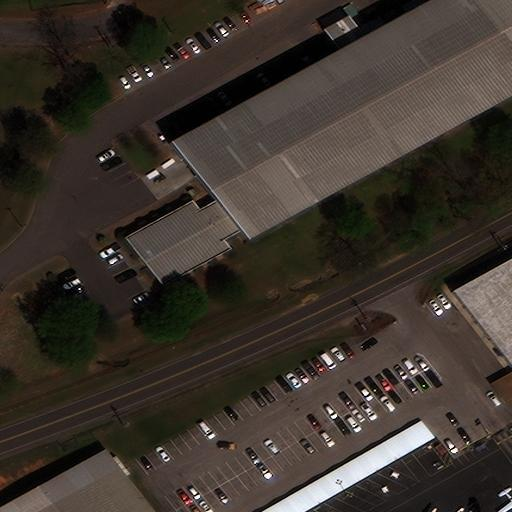Small Civil Transport: (500, 489, 512, 511)
